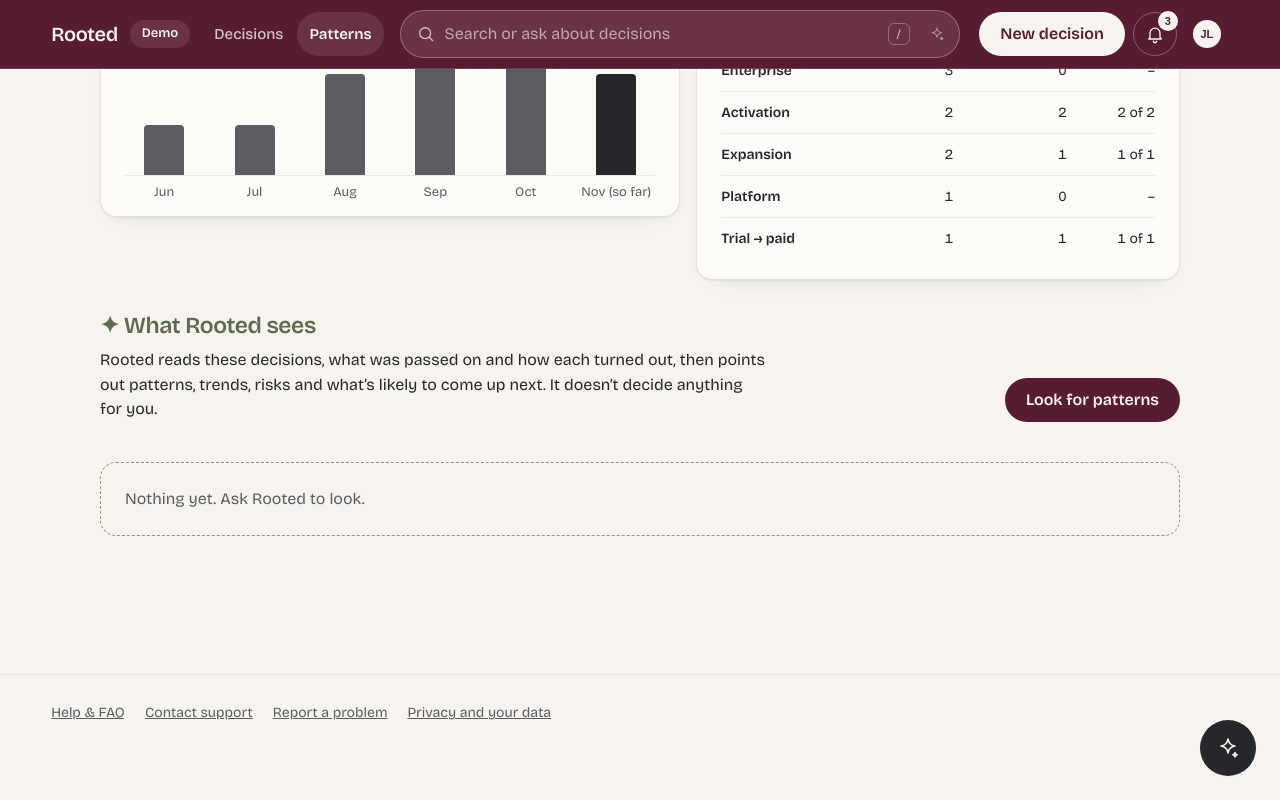
Test case: Patterns and trends (F-R3-05) › F-28: an insight can be dismissed or reported as wrong
The image size is (1280, 800).
(page scrolled)
Click the button "Look for patterns" at (1092, 400), box [1005,378,1180,422]
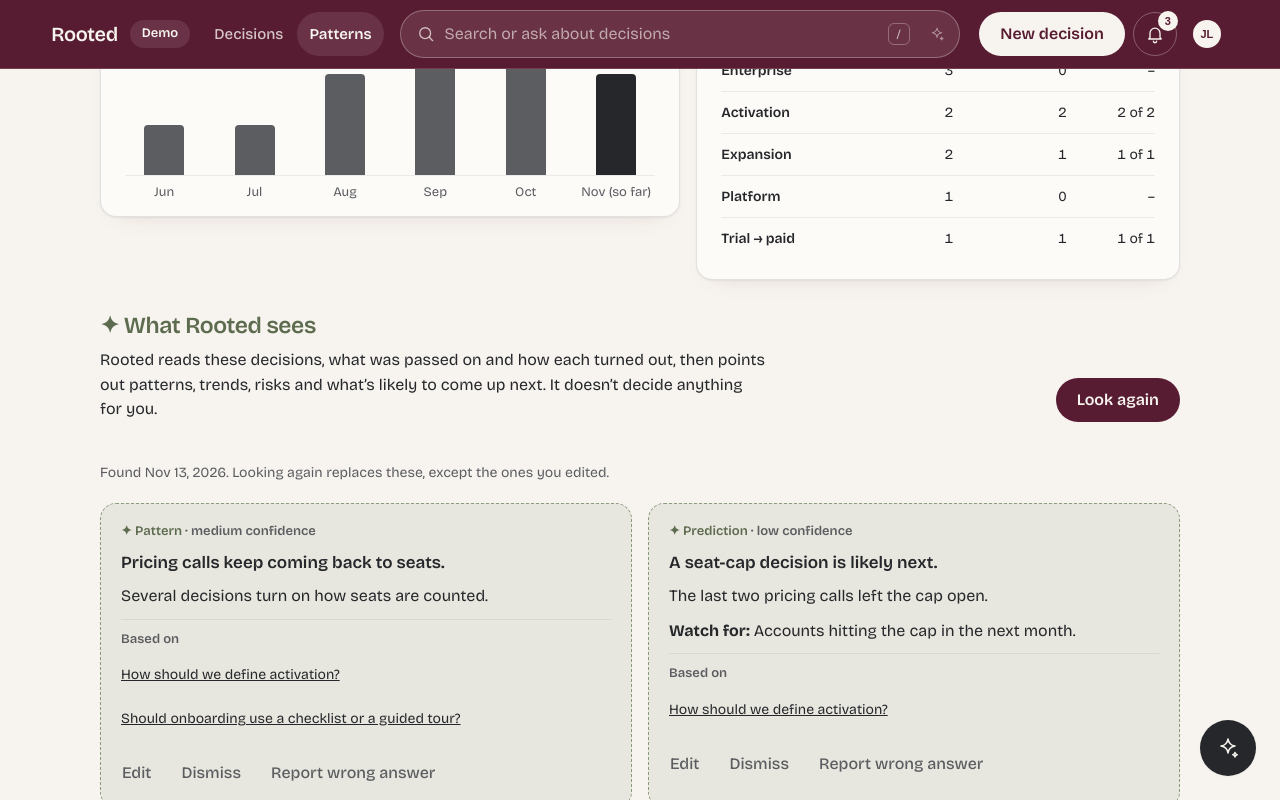
Click the button "Report wrong answer" below "Prediction" at (901, 764), box [806,742,996,786]
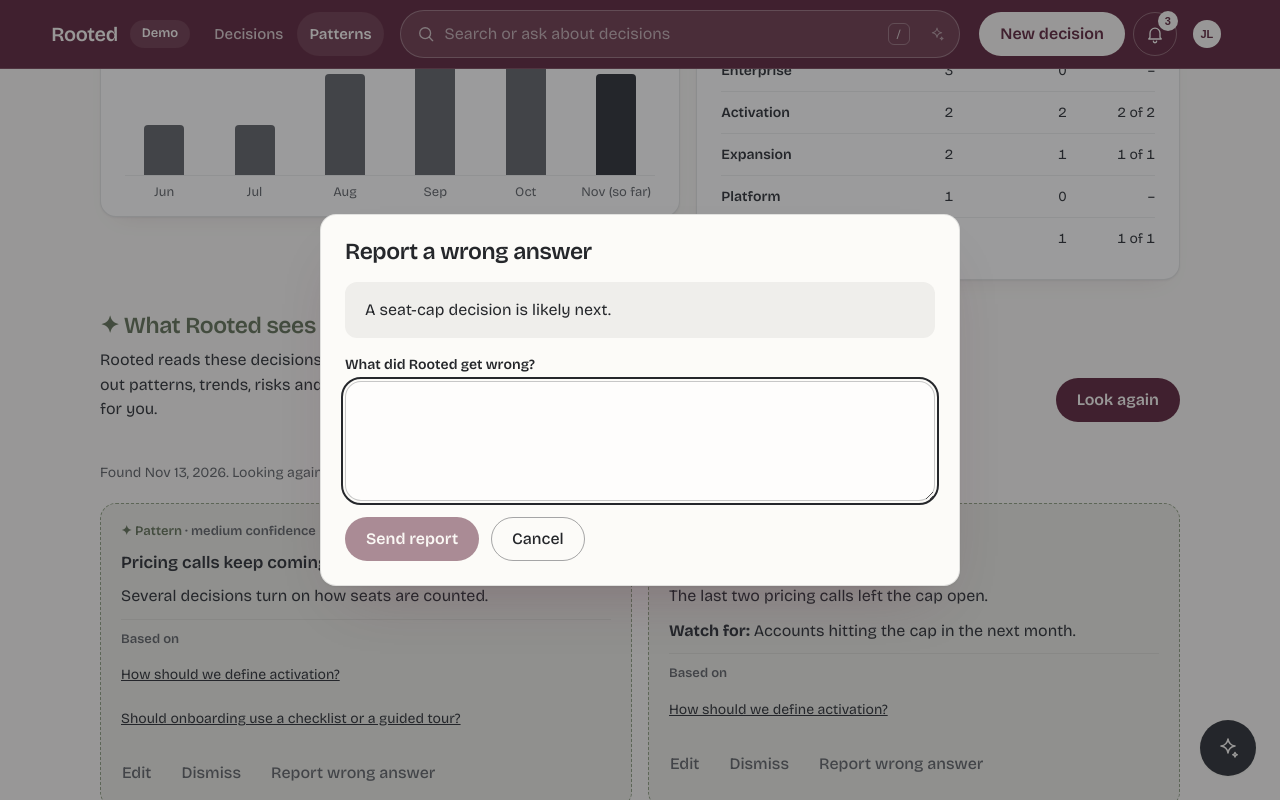
Type "We already decided the cap" into the text box labelled "What did Rooted get wrong?" at (640, 441), box [345,381,935,501]
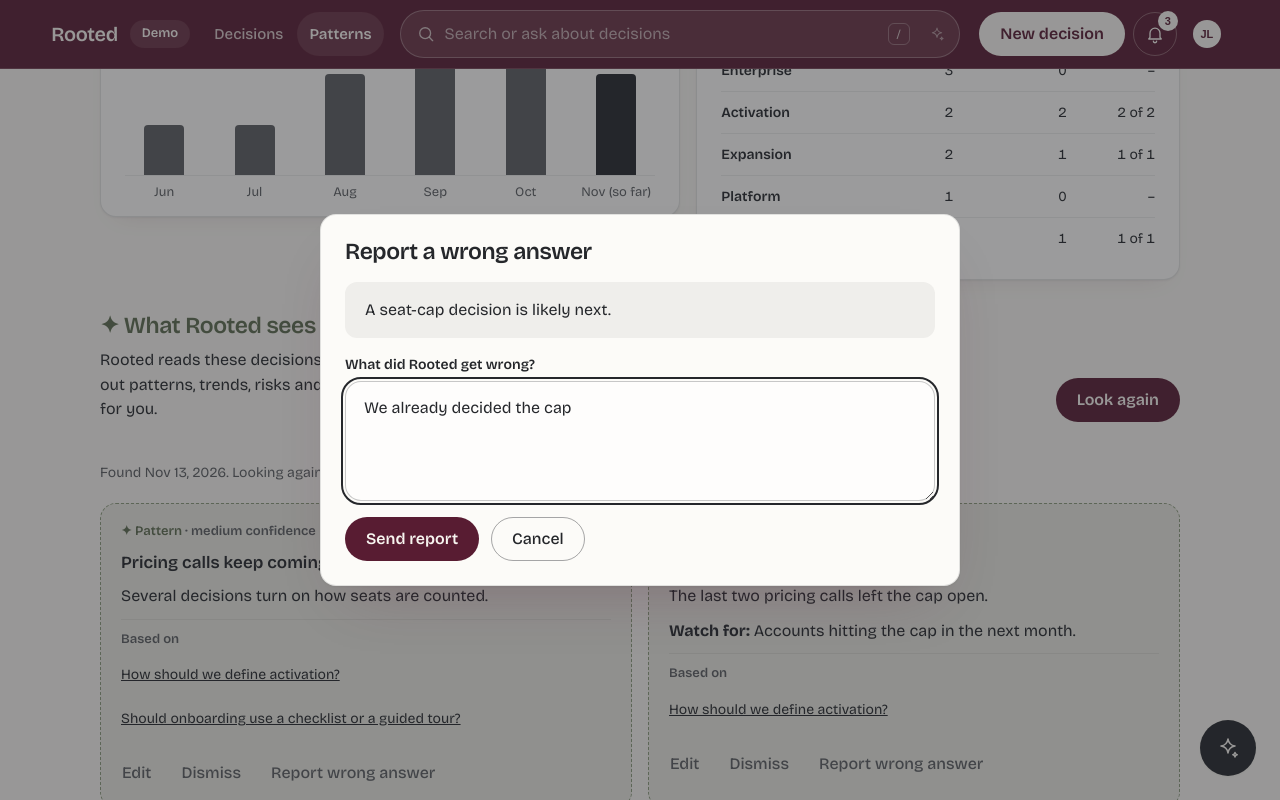
Click the button "Send report" at (412, 539), box [345,517,479,561]
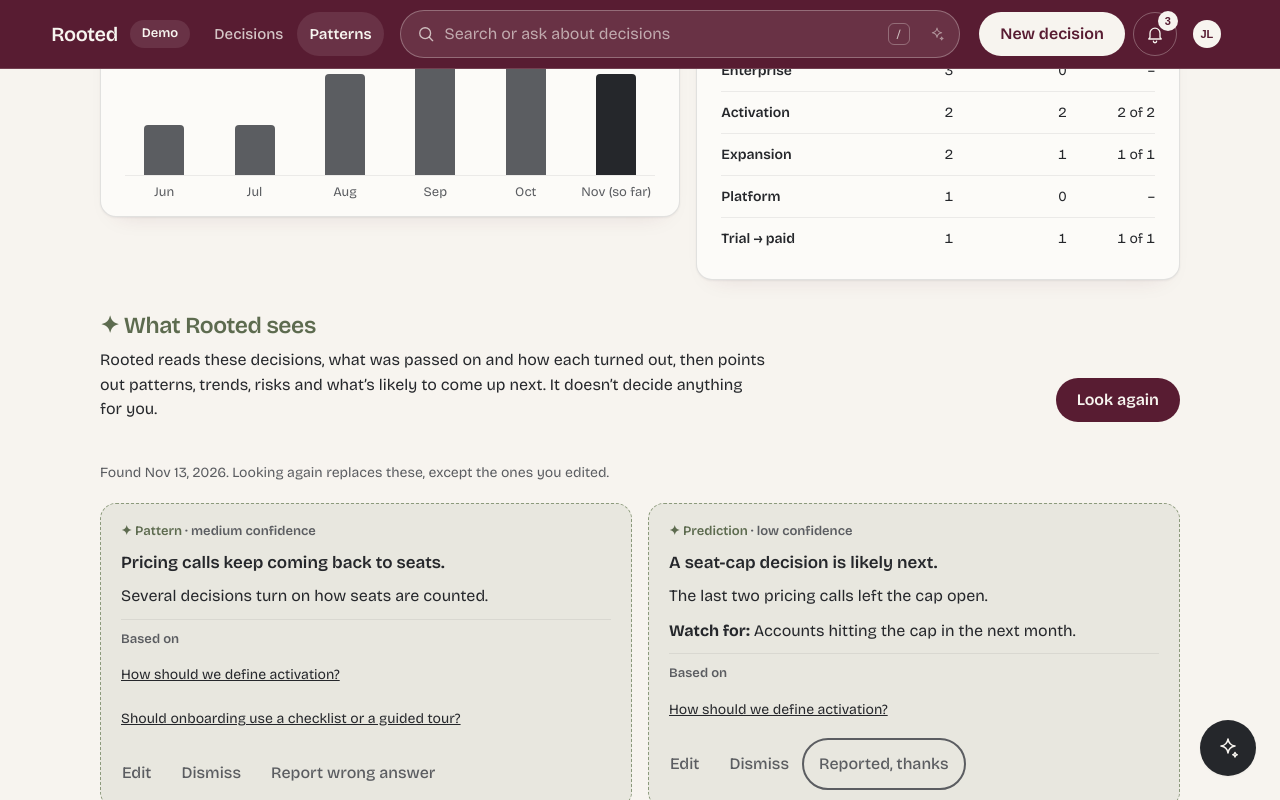
Click the button "Dismiss" below "Prediction" at (759, 764), box [716,742,802,786]
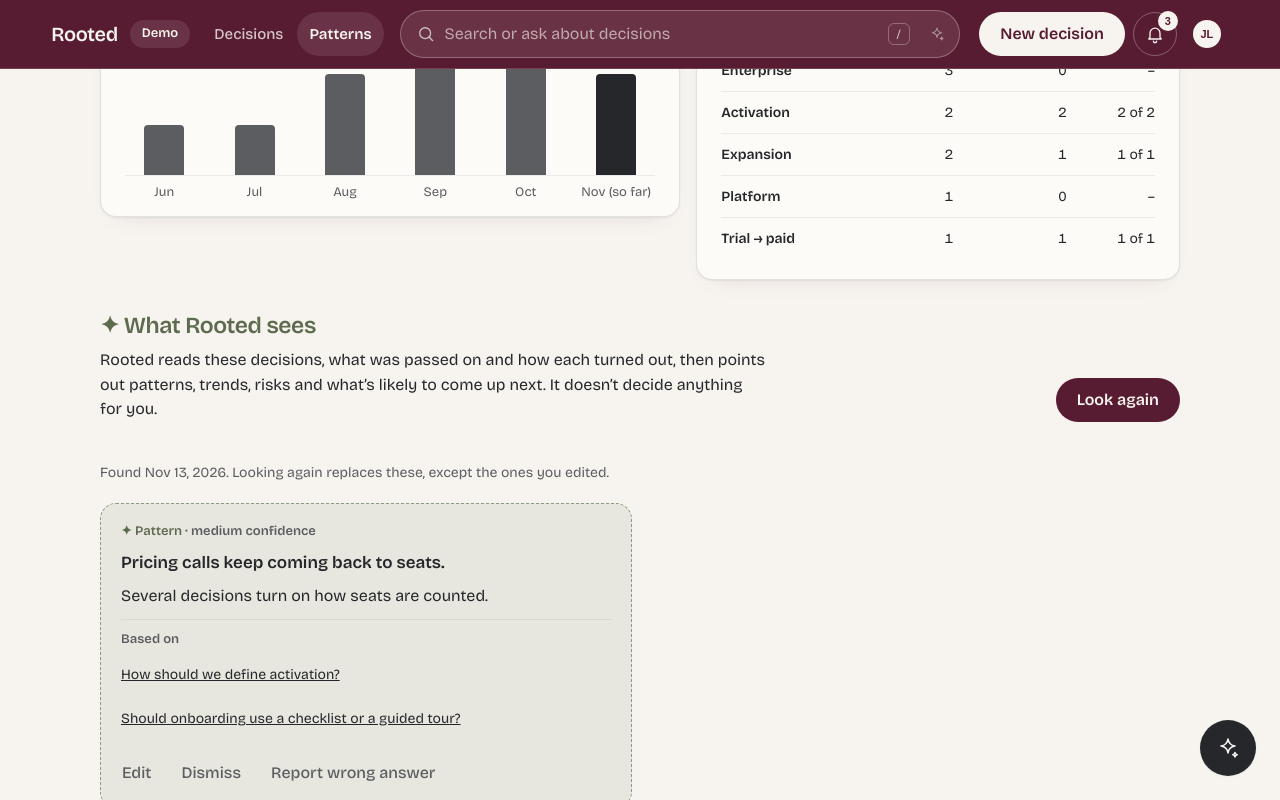
Check: the text "A seat-cap decision is likely next." is gone
